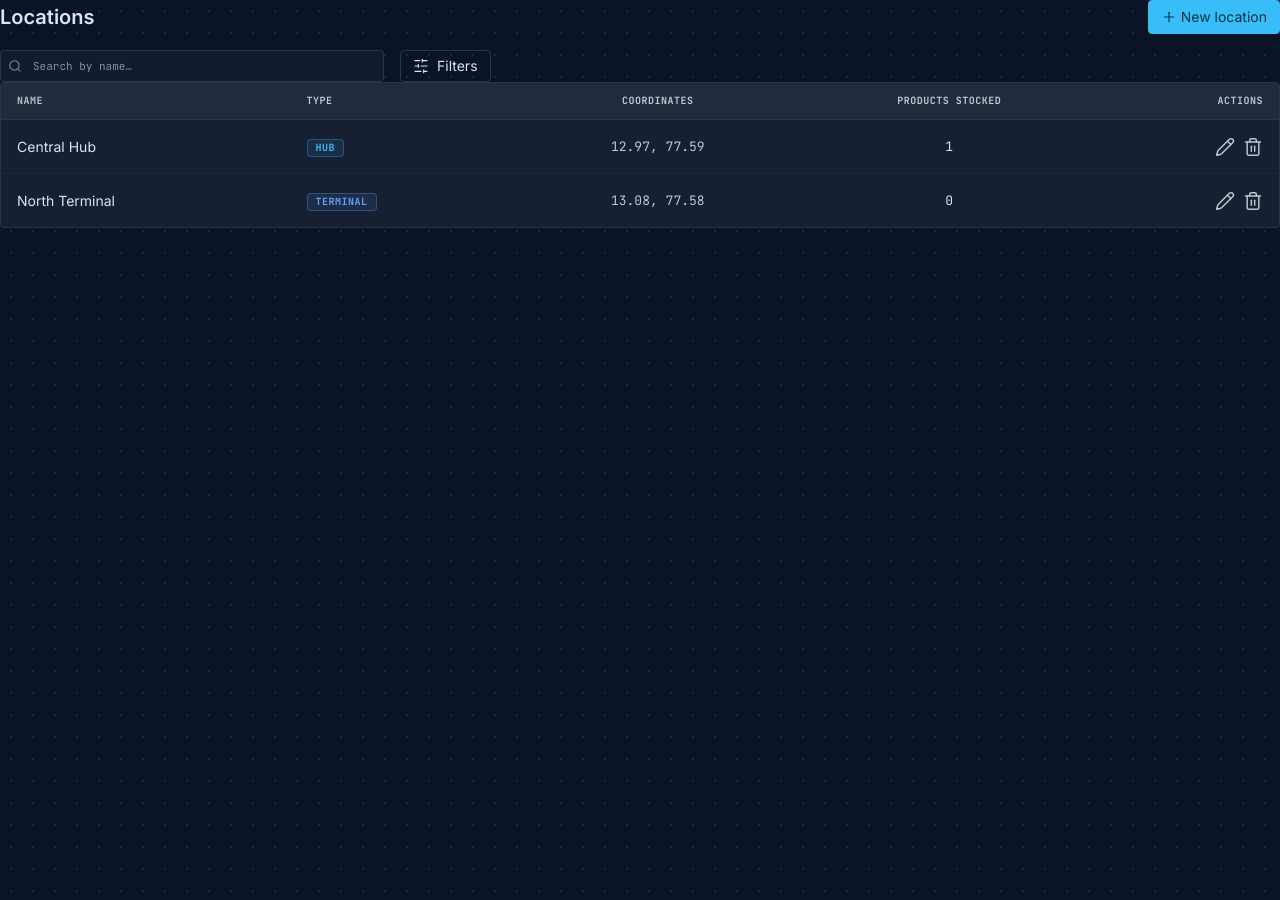
Test: Locations page › hides the opening-stock editor for terminals
This screenshot has width=1280, height=900.
Check: the text "Central Hub" is shown, box top-left (1, 120), bottom-right (291, 174)
Click the button "New location" at (1214, 17), box top-left (1148, 0), bottom-right (1279, 34)
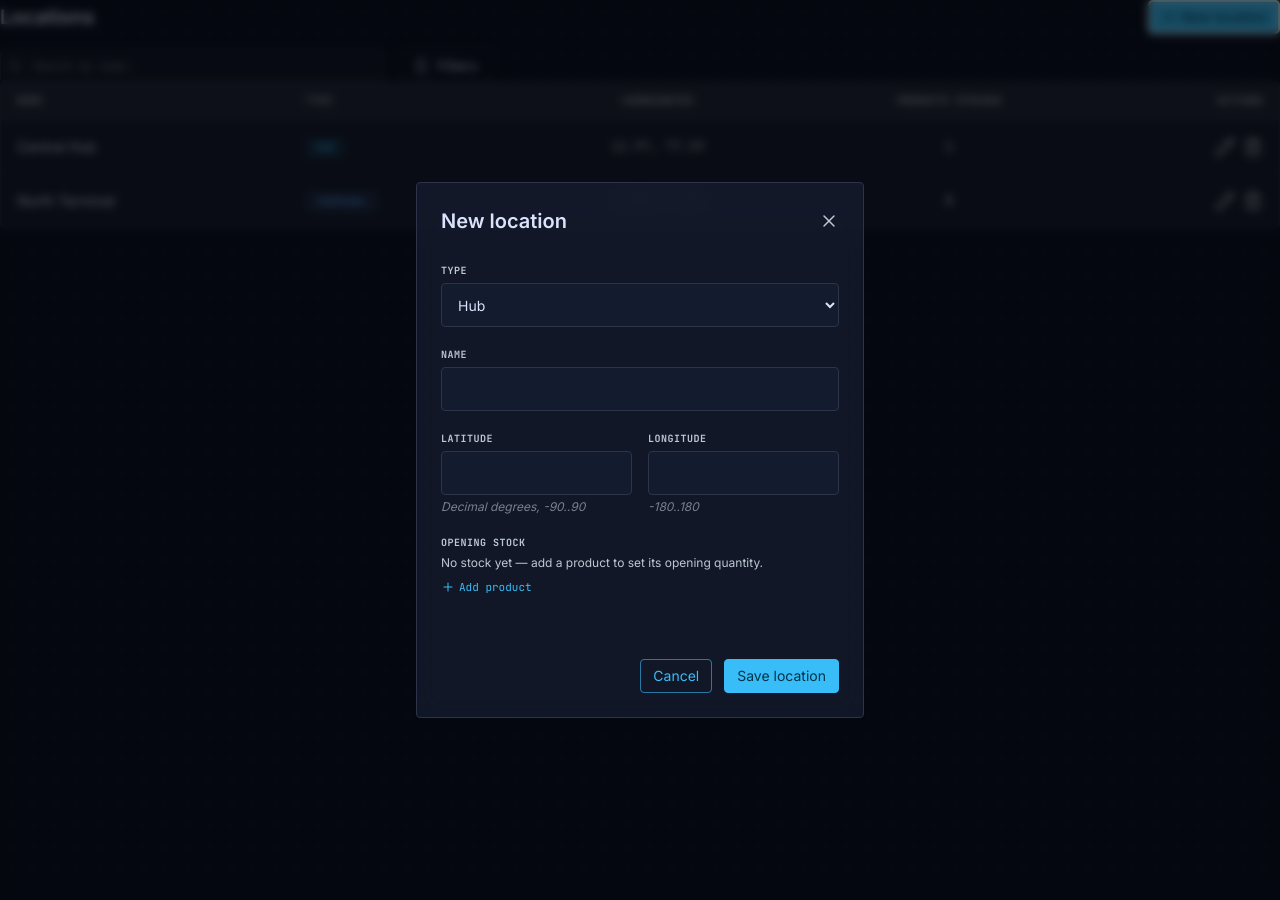
Check: the text "Opening stock" is shown, box top-left (441, 536), bottom-right (526, 549)
Select "Terminal" in the dropdown labelled "Type" at (640, 305), box top-left (441, 283), bottom-right (839, 327)
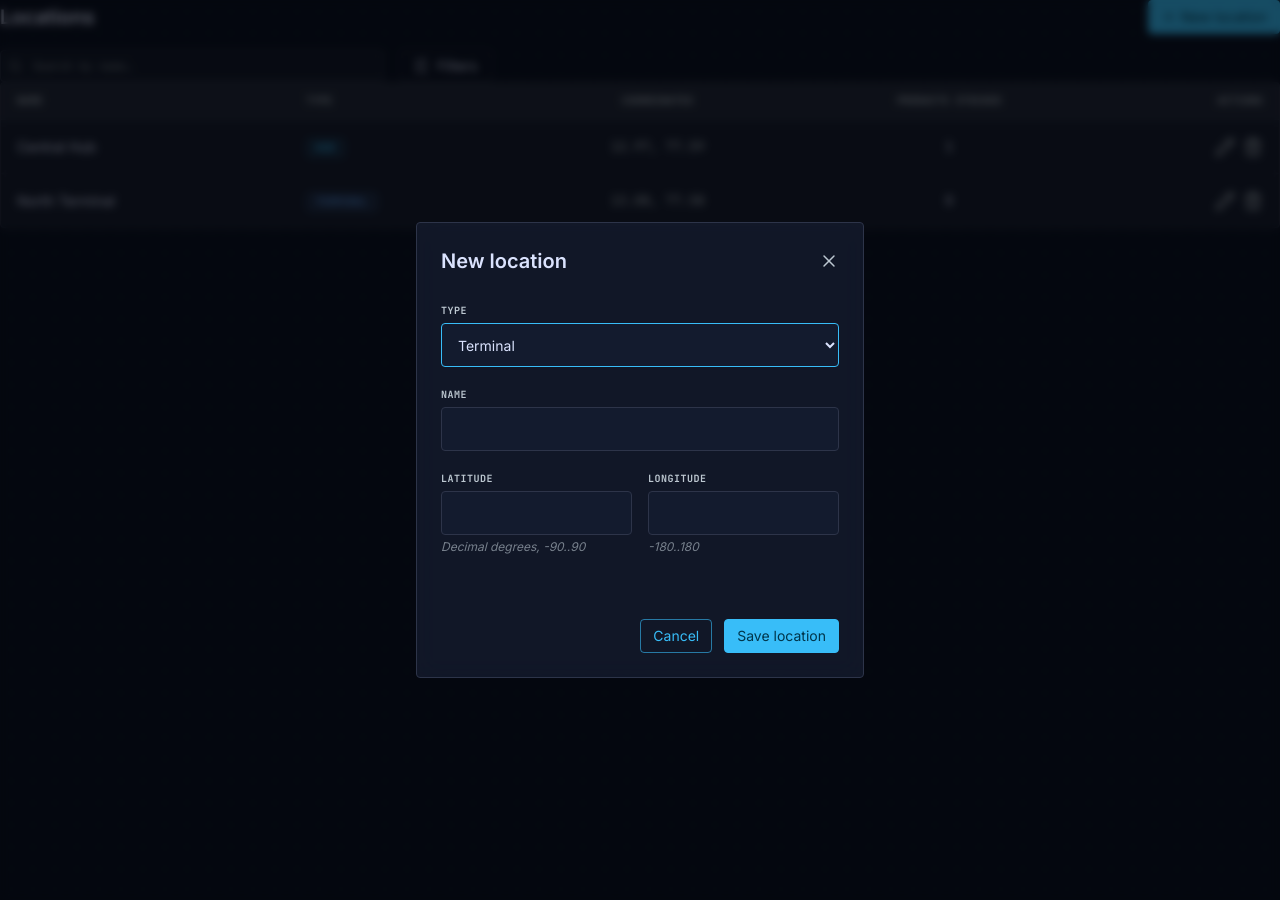
Check: the text "Opening stock" is gone
